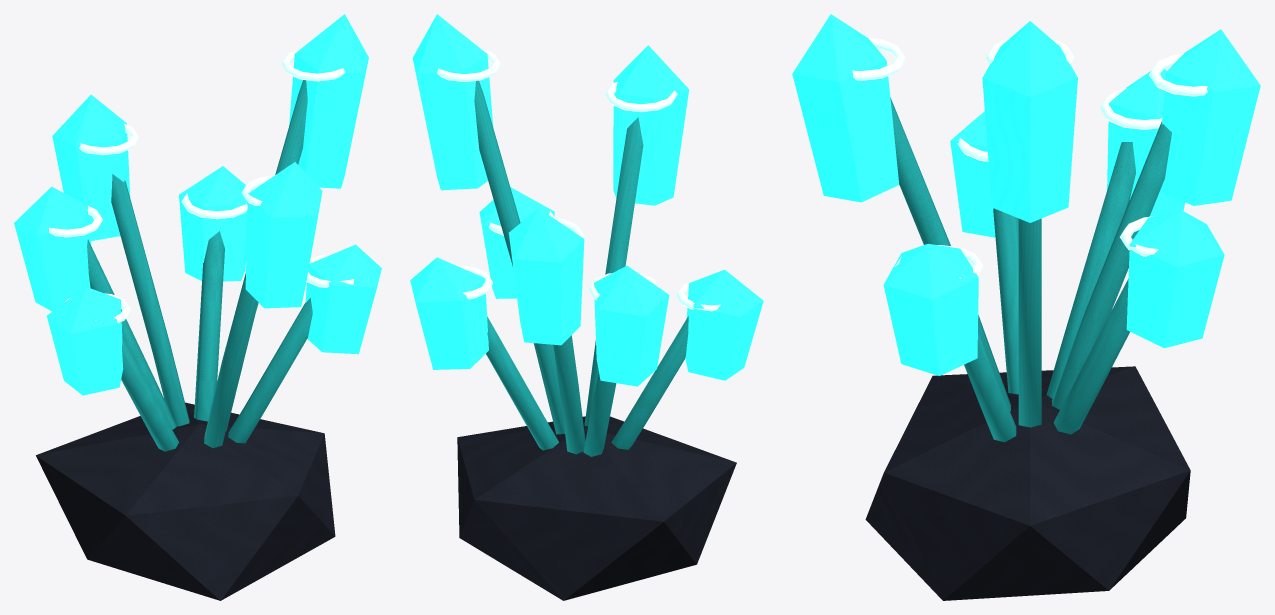
File: GlowPlant.fbx
The picture shows the model from 3 angles, left to right: view 1: azimuth 30°, elevation 25°; view 2: azimuth 150°, elevation 25°; view 3: azimuth 270°, elevation 25°; orthographic projection. The views are drawn at different scales.
Visible parts, largest first — view 1: SM_GlowPlant; view 2: SM_GlowPlant; view 3: SM_GlowPlant.
Boxes of the visible parts, left/top/right/bottom form: SM_GlowPlant: left=14, top=14, right=381, bottom=600; SM_GlowPlant: left=410, top=14, right=763, bottom=600; SM_GlowPlant: left=792, top=14, right=1260, bottom=600.
Size of the model in its own units: 88.05 by 88.52 by 137.
1 material, 1 textured.
